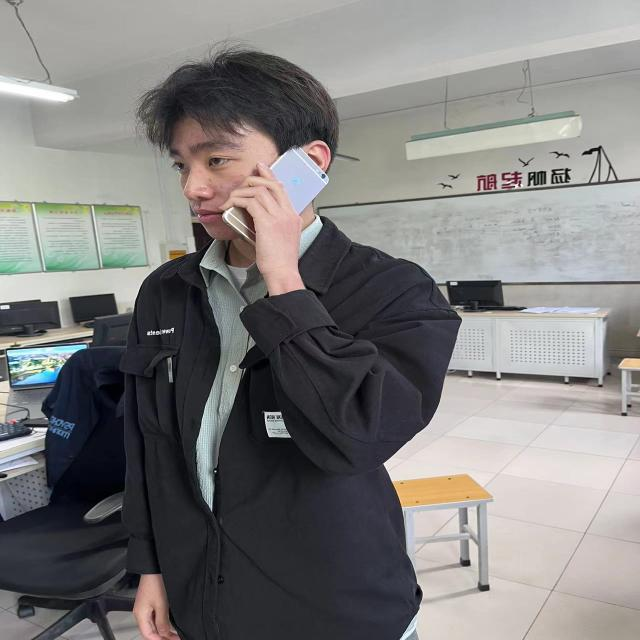phone: (223, 144, 332, 246)
